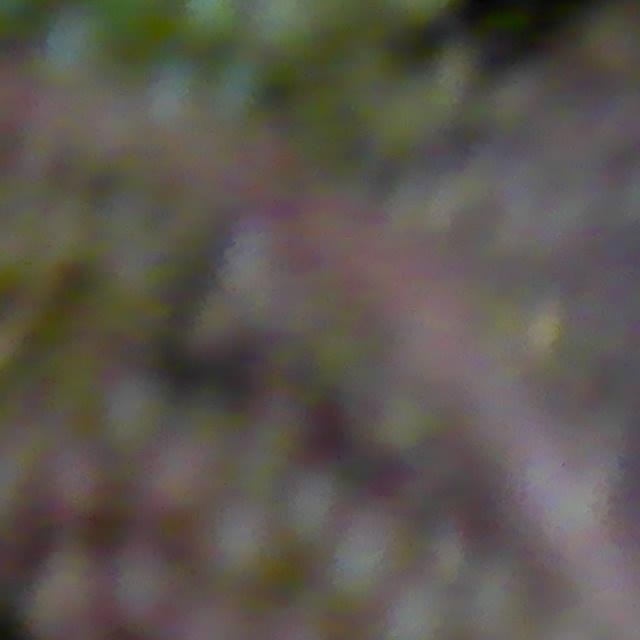SeaGrape: (147, 449, 243, 545), (21, 453, 122, 541), (38, 1, 120, 88), (34, 561, 117, 640), (126, 566, 201, 637), (203, 52, 271, 122)
